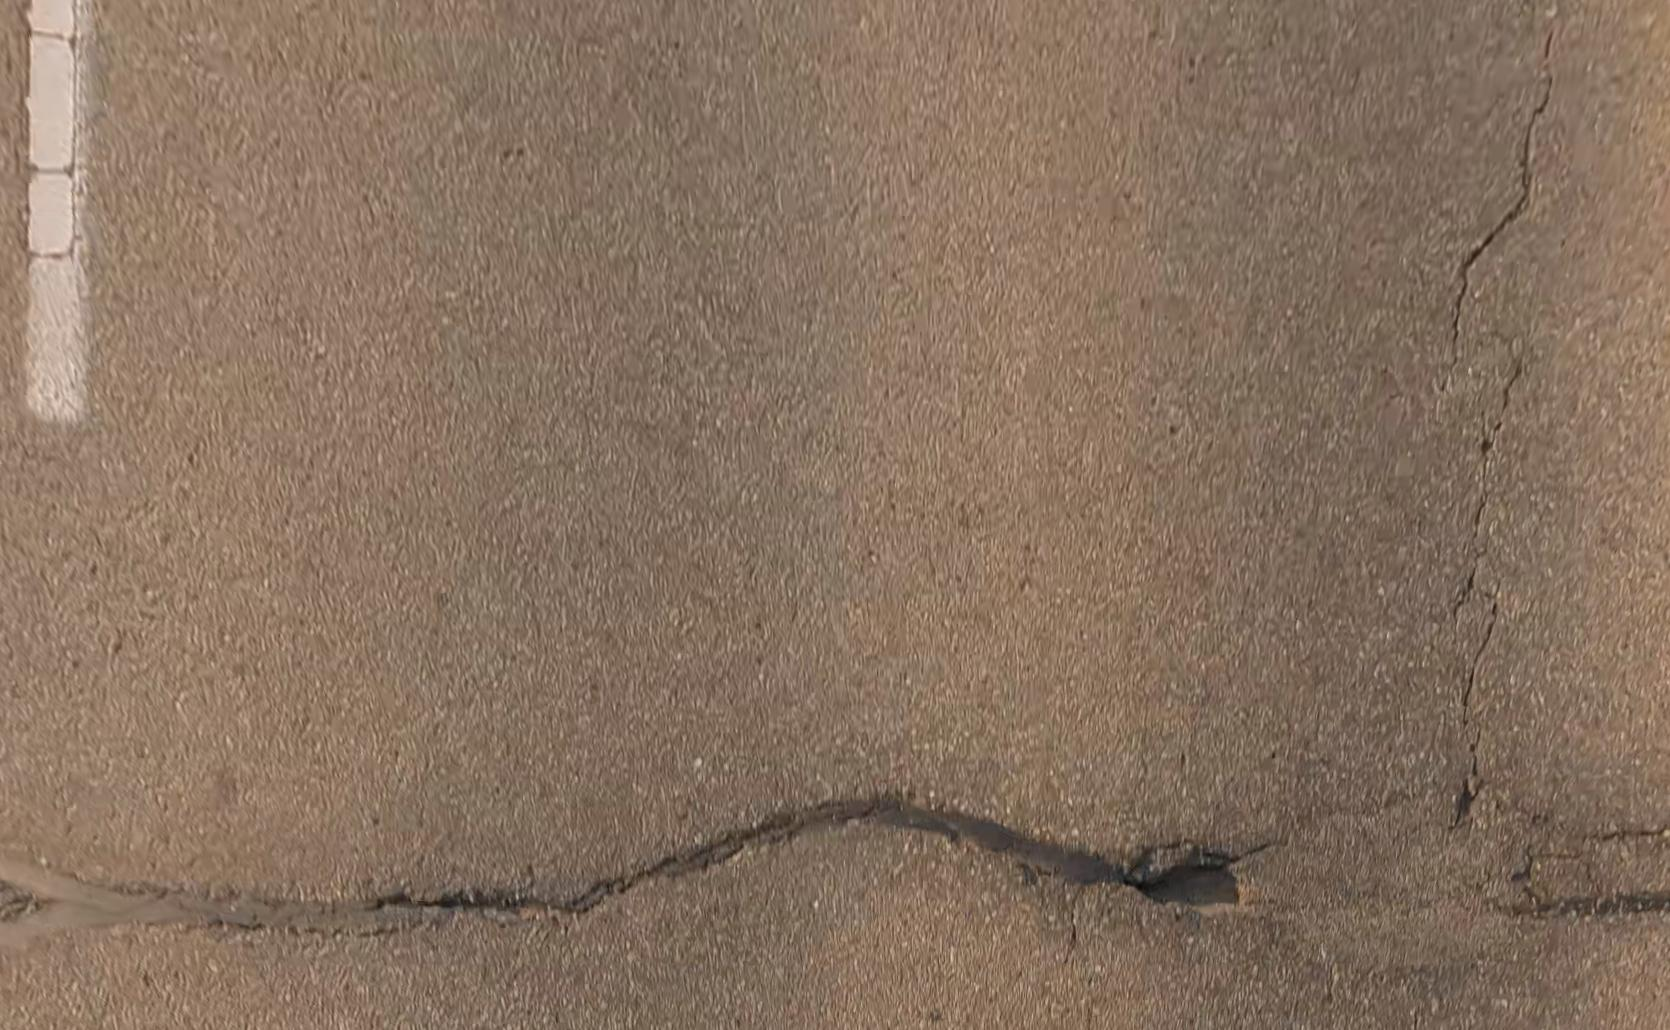pothole_patch_poor: (1138, 858, 1250, 918)
